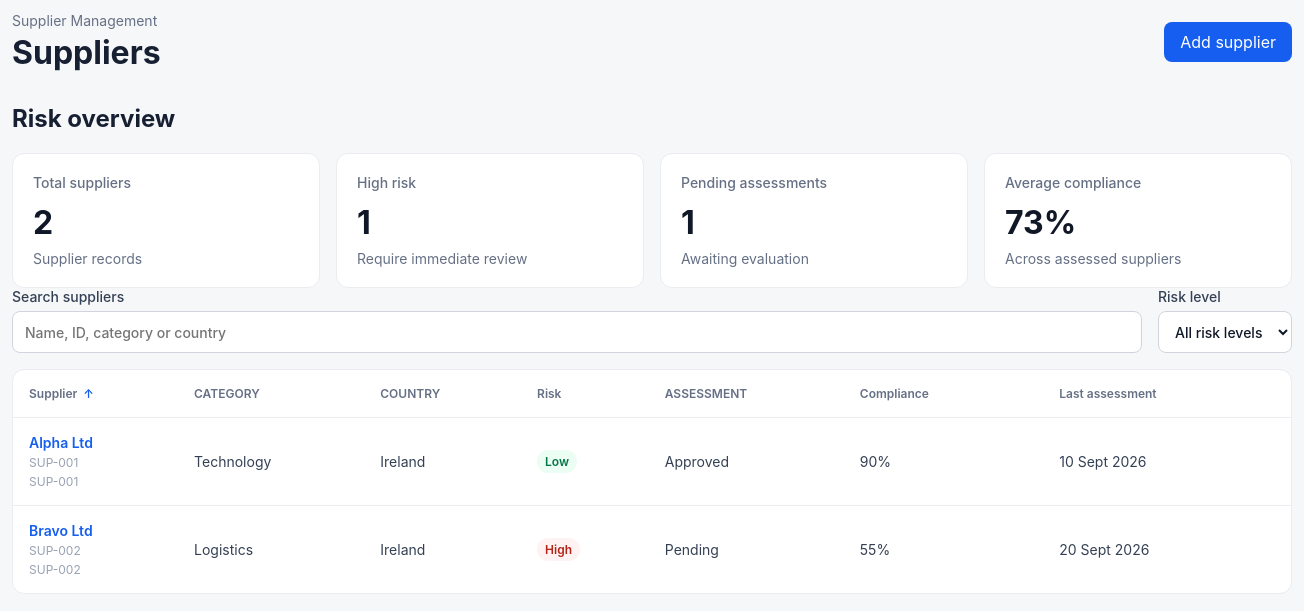
Test case: filters suppliers by risk level
Expected: the button "Alpha Ltd" is shown, [29,434,162,451]
Select "High" in the dropdown at (1225, 332), box [1158,311,1292,353]
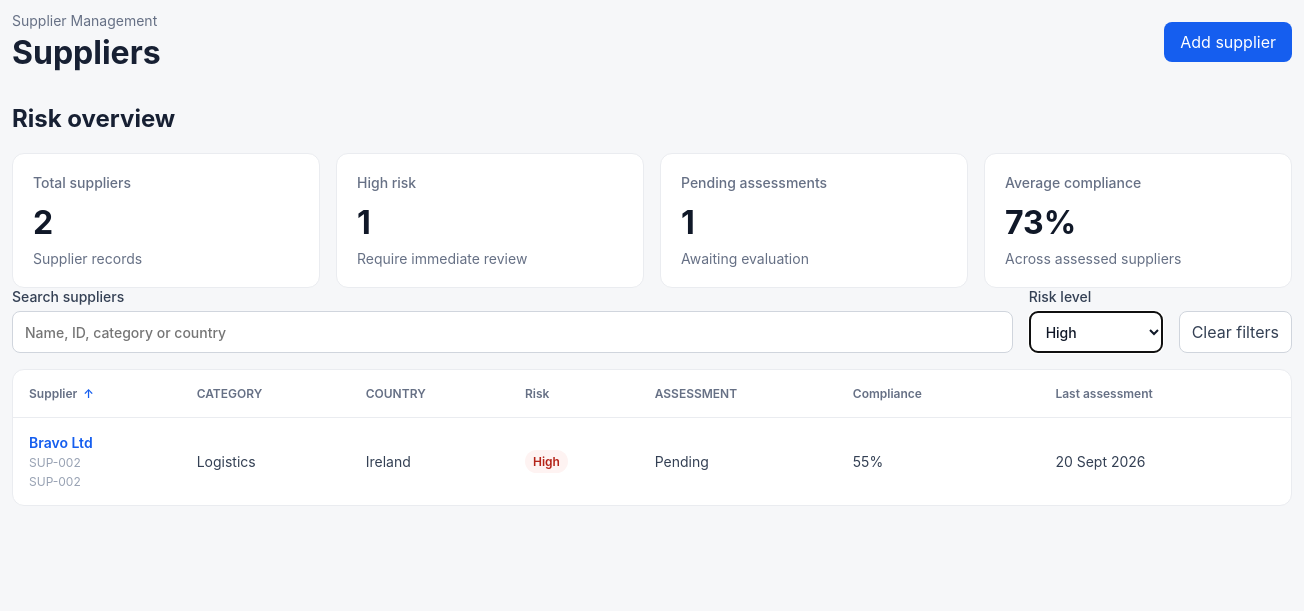
Expected: the button "Bravo Ltd" is shown, [29,434,165,451]
Result: the button "Alpha Ltd" is gone
